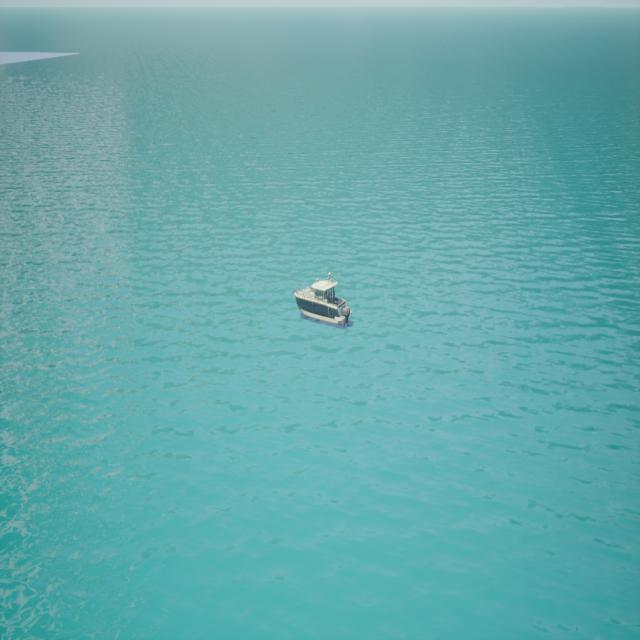ship: (292, 272, 350, 326)
